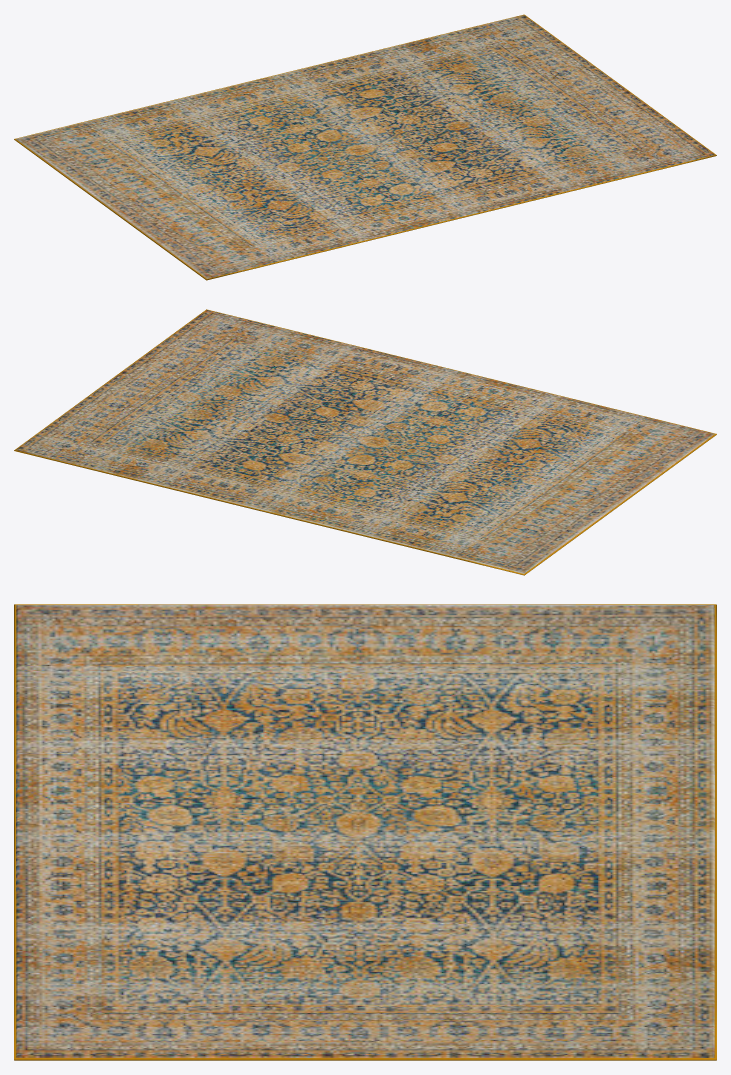
Rendered from B071777YNJ.glb.
3 views of the same model, one above another, from view 1: azimuth 30°, elevation 25°; view 2: azimuth 150°, elevation 25°; view 3: azimuth 270°, elevation 25° (orthographic). The views are drawn at different scales.
Visible parts, largest first — view 1: RootNode; view 2: RootNode; view 3: RootNode.
Part boxes in pixels (x1,y1,x2,y2): RootNode: (14, 14, 716, 280); RootNode: (14, 309, 716, 575); RootNode: (14, 604, 716, 1060).
Size of the model in its own units: 2.34 by 0.00667 by 1.53.
1 material, 1 textured.
